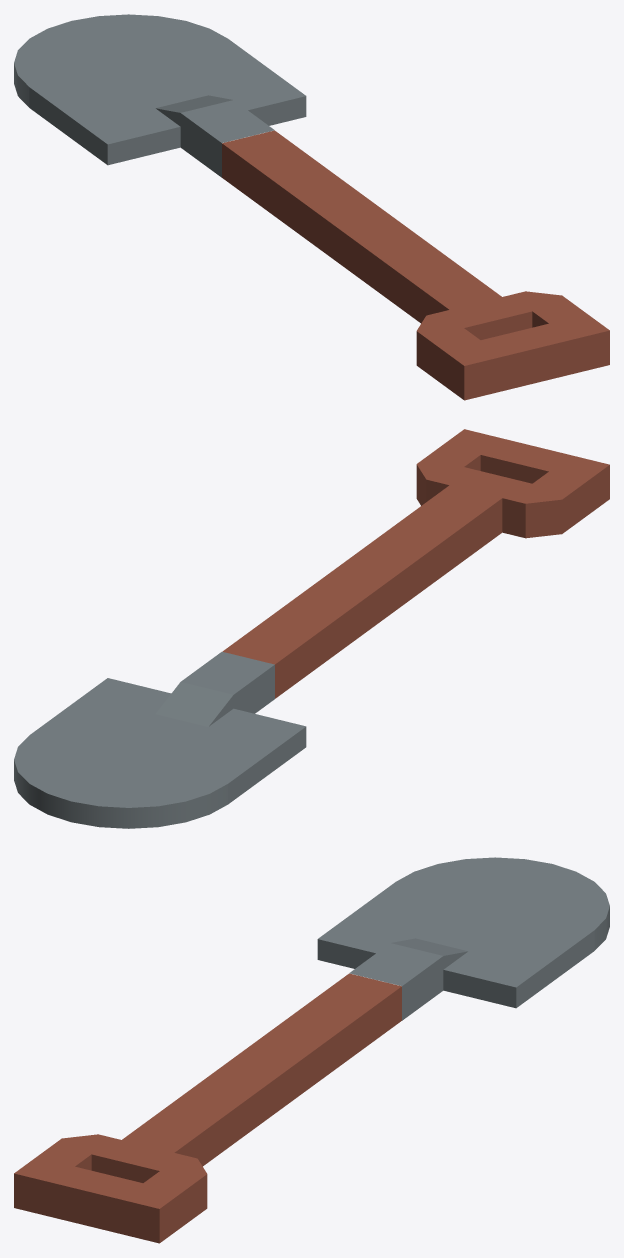
The model's file is shovel.gltf.
The picture shows the model from 3 angles, top to bottom: view 1: azimuth 30°, elevation 25°; view 2: azimuth 150°, elevation 25°; view 3: azimuth 330°, elevation 25°; orthographic projection.
Parts seen in each view (by area): view 1: shovel; view 2: shovel; view 3: shovel.
Boxes of the visible parts, bbox=[...] form: shovel: bbox=[14, 14, 609, 400]; shovel: bbox=[14, 429, 609, 828]; shovel: bbox=[14, 857, 609, 1243].
Bounding box in the file's own units: 0.2209 × 0.0368 × 0.897.
